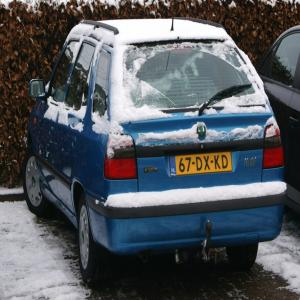Vehicle-registration-plate: (175, 147, 225, 187)
